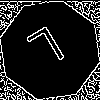L: (25, 25, 72, 78)
